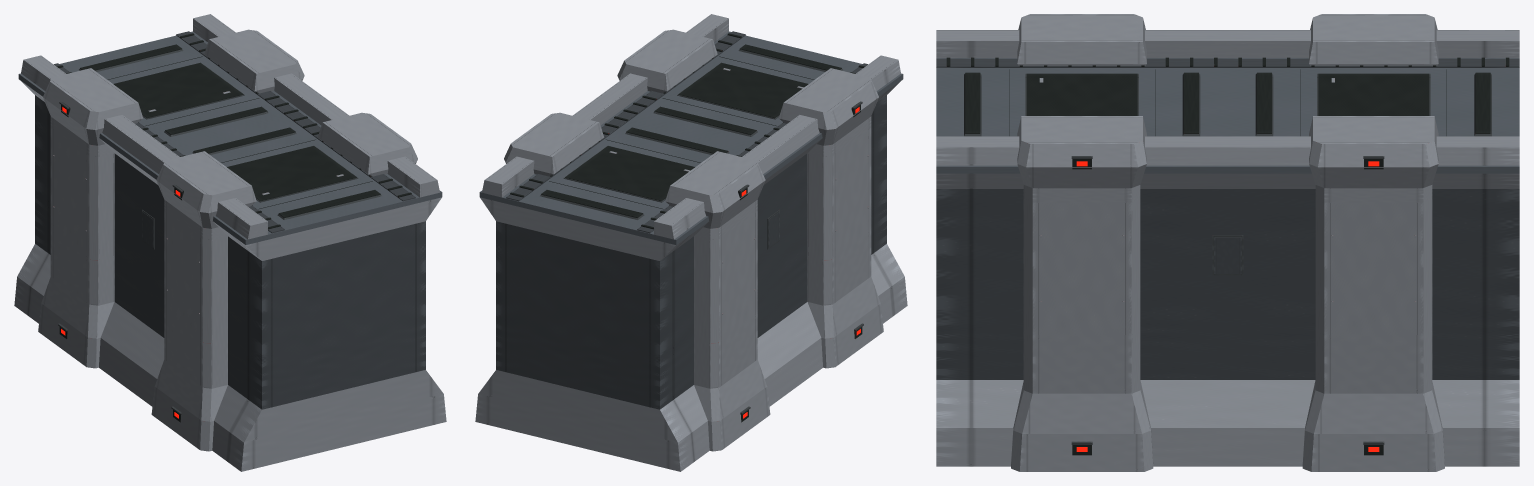
Rendered from straight.glb.
3 views of the same model, side by side, from view 1: azimuth 30°, elevation 25°; view 2: azimuth 150°, elevation 25°; view 3: azimuth 270°, elevation 25° (orthographic). The views are drawn at different scales.
Visible parts, largest first — view 1: straight-lod0-roof0, straight-lod0-base0, straight-lod0-floor0; view 2: straight-lod0-roof0, straight-lod0-base0, straight-lod0-floor0; view 3: straight-lod0-roof0, straight-lod0-base0, straight-lod0-floor0.
Boxes of the visible parts, bbox=[...] form: straight-lod0-roof0: bbox=[18, 14, 442, 260]; straight-lod0-base0: bbox=[14, 198, 446, 471]; straight-lod0-floor0: bbox=[35, 95, 425, 363]; straight-lod0-roof0: bbox=[479, 14, 903, 260]; straight-lod0-base0: bbox=[475, 198, 907, 471]; straight-lod0-floor0: bbox=[496, 95, 886, 363]; straight-lod0-roof0: bbox=[936, 14, 1519, 202]; straight-lod0-base0: bbox=[936, 321, 1519, 471]; straight-lod0-floor0: bbox=[936, 189, 1519, 334].
Size of what is drawn, in the model's own units: 40.96 by 44 by 72.
6 materials, 6 textured.
